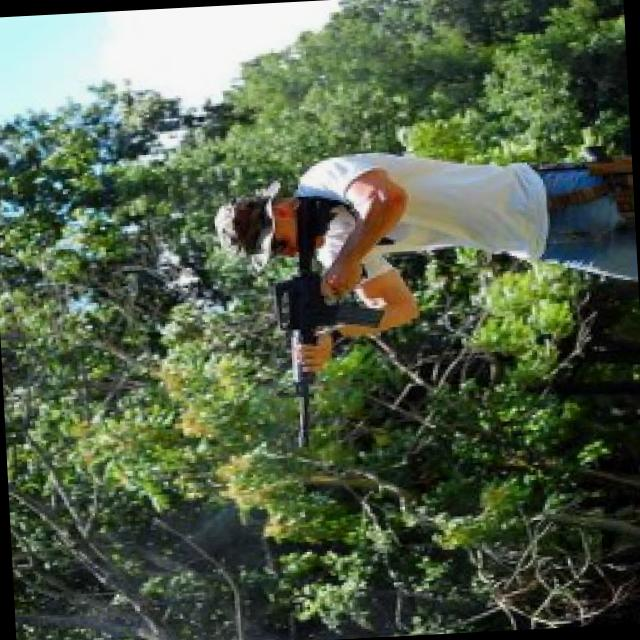long weapon: (272, 185, 386, 438)
